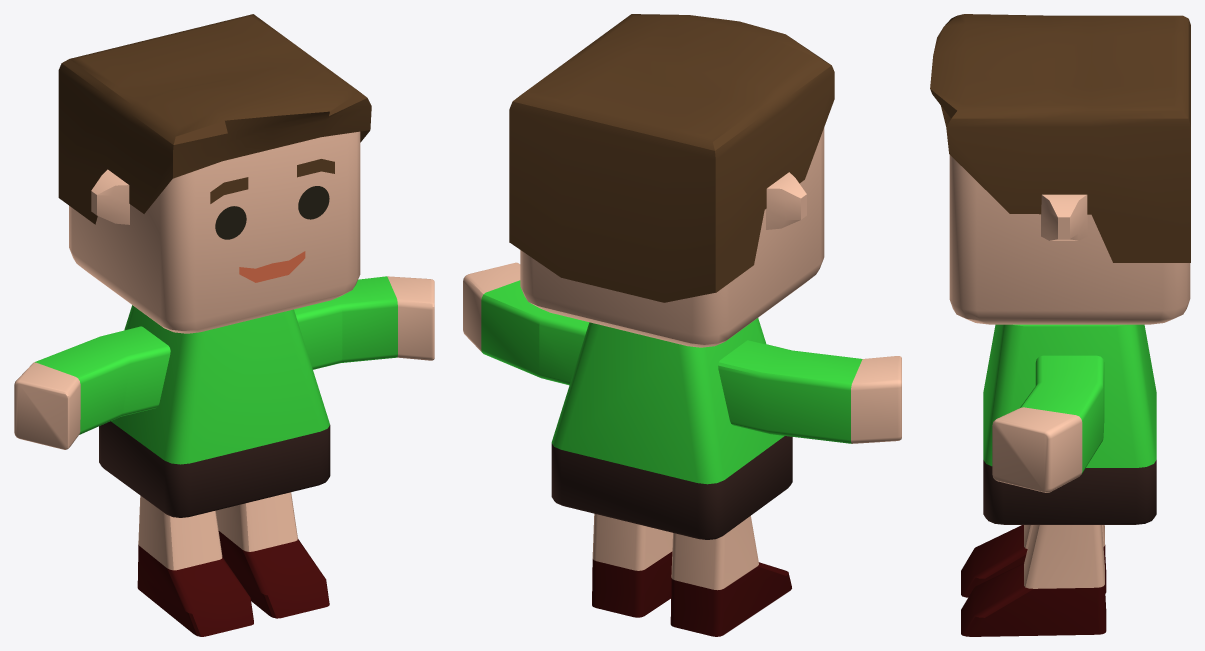
The model's file is Persona[2].fbx.
The picture shows the model from 3 angles, left to right: view 1: azimuth 30°, elevation 25°; view 2: azimuth 150°, elevation 25°; view 3: azimuth 270°, elevation 25°; orthographic projection. The views are drawn at different scales.
Visible parts, largest first — view 1: Peinado [T1].002, Cabeza.002, Cuerpo.004, Mano [1].002, Pierna[2].002, Mano [2].002, Pierna[1].002, Oreja [T1].002, Ojos [T1].002, Cejas [T1].002, Boca [T1].002; view 2: Peinado [T1].002, Cuerpo.004, Cabeza.002, Mano [1].002, Pierna[2].002, Mano [2].002, Pierna[1].002, Oreja [T1].002; view 3: Peinado [T1].002, Cabeza.002, Cuerpo.004, Pierna[1].002, Mano [2].002, Pierna[2].002, Oreja [T1].002.
Boxes of the visible parts, x1,y1,x2,y2 form: Peinado [T1].002: [58, 14, 371, 224]; Cabeza.002: [69, 131, 360, 333]; Cuerpo.004: [99, 305, 330, 517]; Mano [1].002: [14, 326, 170, 449]; Pierna[2].002: [137, 495, 253, 636]; Mano [2].002: [294, 276, 434, 369]; Pierna[1].002: [216, 492, 329, 618]; Oreja [T1].002: [91, 169, 129, 224]; Ojos [T1].002: [215, 186, 329, 239]; Cejas [T1].002: [210, 159, 334, 203]; Boca [T1].002: [239, 251, 305, 282]; Peinado [T1].002: [509, 14, 834, 302]; Cuerpo.004: [551, 318, 792, 539]; Cabeza.002: [520, 128, 824, 347]; Mano [1].002: [718, 340, 901, 443]; Pierna[2].002: [670, 516, 791, 636]; Mano [2].002: [463, 262, 589, 385]; Pierna[1].002: [592, 513, 672, 617]; Oreja [T1].002: [766, 172, 806, 229]; Peinado [T1].002: [930, 14, 1190, 262]; Cabeza.002: [949, 155, 1190, 324]; Cuerpo.004: [983, 324, 1156, 524]; Pierna[1].002: [961, 525, 1106, 636]; Mano [2].002: [992, 355, 1104, 492]; Pierna[2].002: [961, 525, 1106, 597]; Oreja [T1].002: [1041, 194, 1087, 240].
Bounding box in the file's own units: 283 × 338 × 144.
